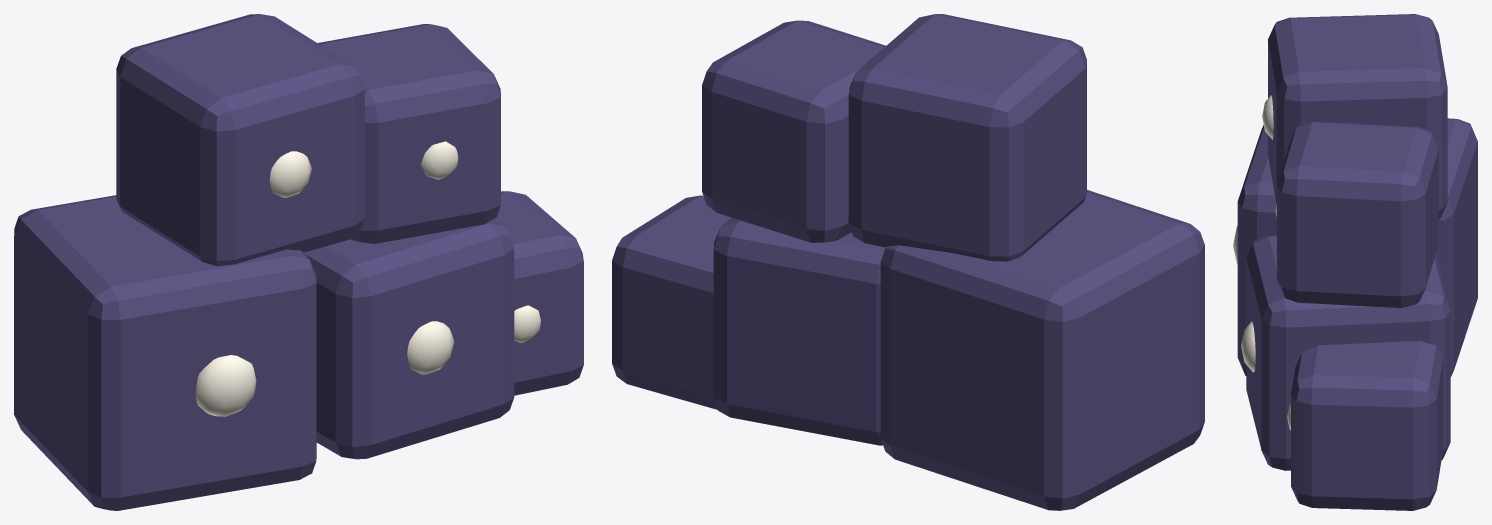
Rendered from pearl_toy_block_stack.glb.
The picture shows the model from 3 angles, left to right: view 1: azimuth 30°, elevation 25°; view 2: azimuth 150°, elevation 25°; view 3: azimuth 270°, elevation 25°; orthographic projection. The views are drawn at different scales.
Visible parts, largest first — view 1: pearl_toy_block_stack.001; view 2: pearl_toy_block_stack.001; view 3: pearl_toy_block_stack.001.
Part boxes in pixels (left/top/right/bottom): pearl_toy_block_stack.001: left=14, top=14, right=583, bottom=510; pearl_toy_block_stack.001: left=612, top=14, right=1204, bottom=510; pearl_toy_block_stack.001: left=1233, top=14, right=1477, bottom=510.
Size of the model in its own units: 5.62 by 3.98 by 2.62.
